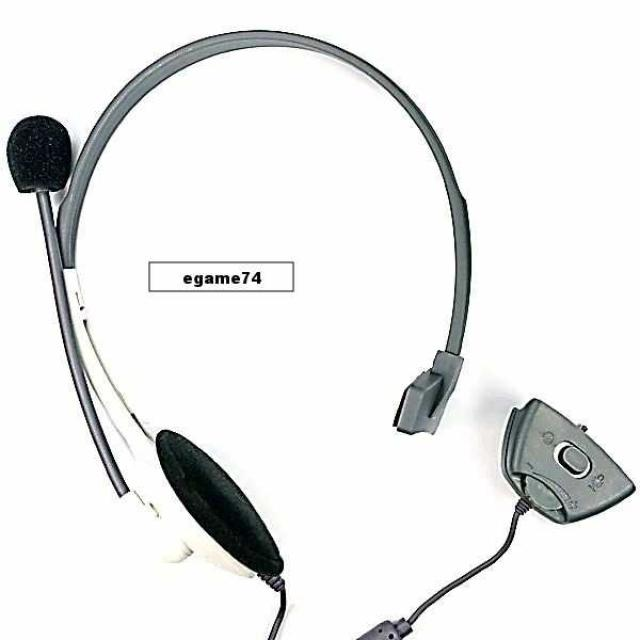microphone: (6, 114, 73, 197)
